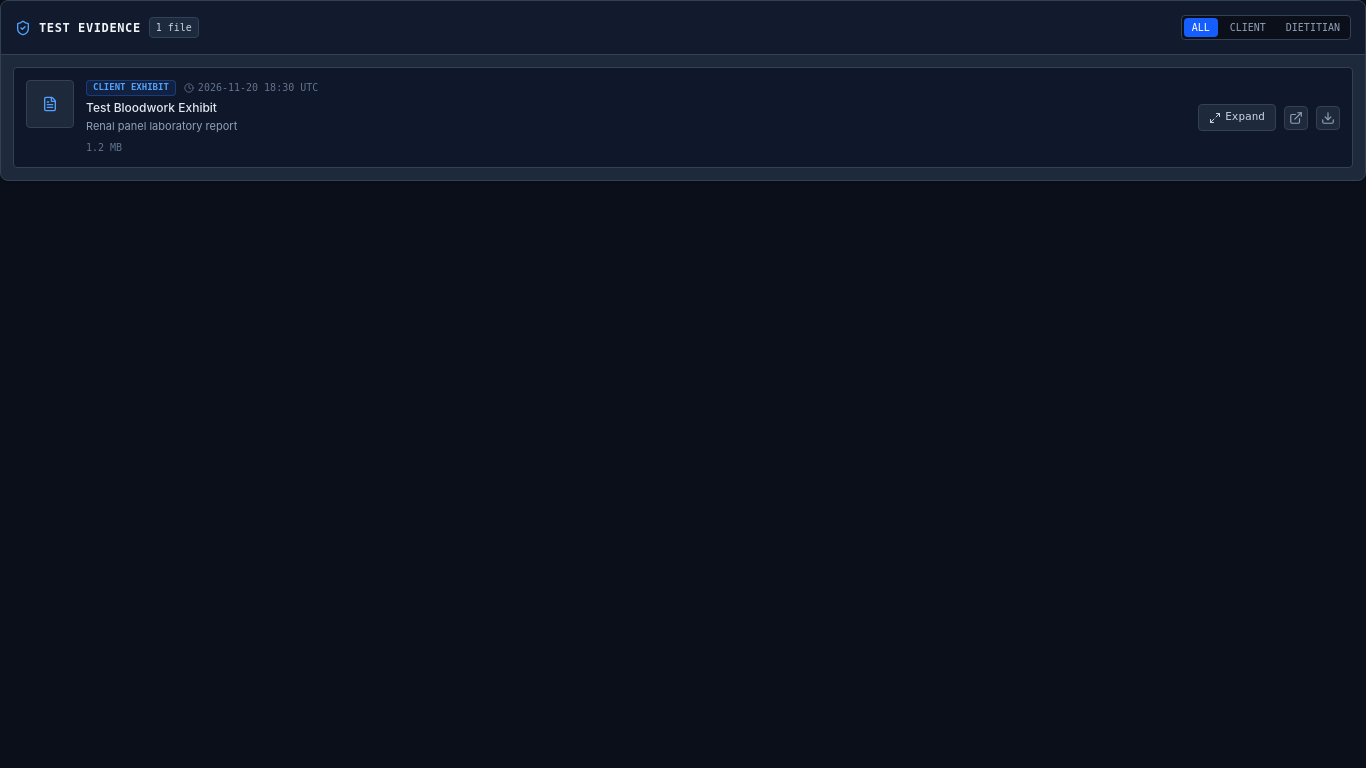
it: Dispute Tribunal Court & Evidence Review › renders EvidenceViewer component and supports expanding high-resolution view
Expected: the heading "Test Bloodwork Exhibit" is shown, [86, 100, 217, 114]
Expected: the text "CLIENT EXHIBIT" is shown, [86, 80, 176, 96]
// Click expand button to open high-res modal
Click the button with test id "expand-evidence-DOC-01" at (1237, 118), box [1198, 104, 1276, 131]
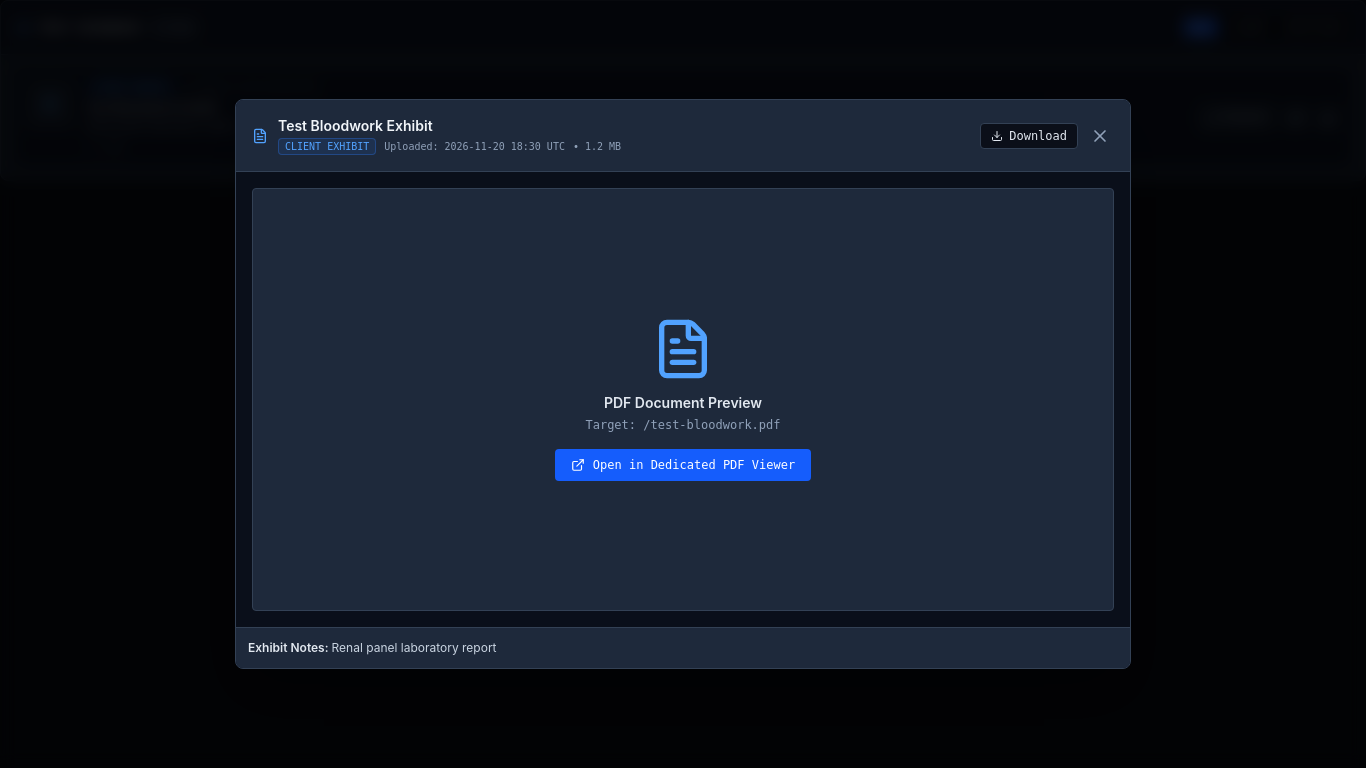
Result: the element with test id "high-res-modal" is shown
Result: the text "PDF Document Preview" is shown at [604, 394, 762, 414]
// Close high-res modal
Click the button with test id "close-high-res-modal" at (1100, 136), box [1086, 122, 1114, 150]
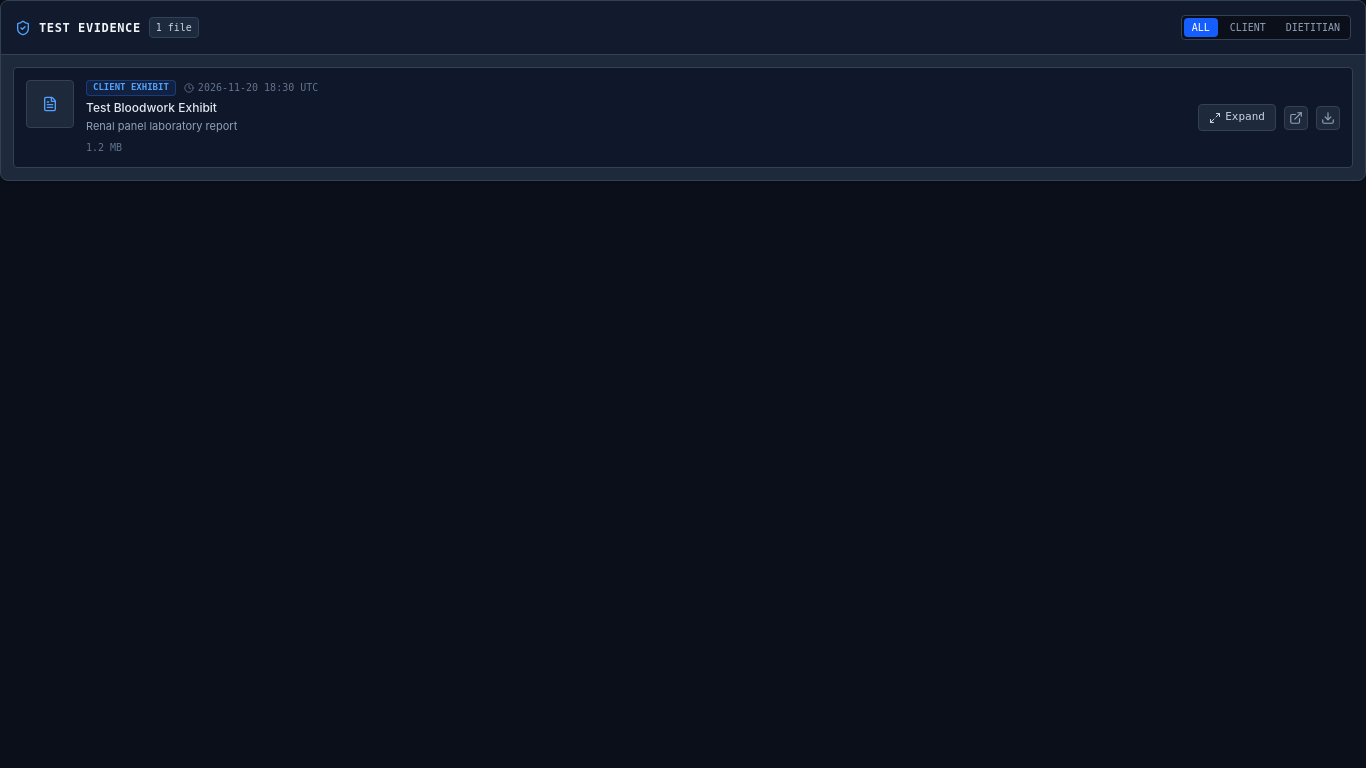
Result: the element with test id "high-res-modal" is gone
